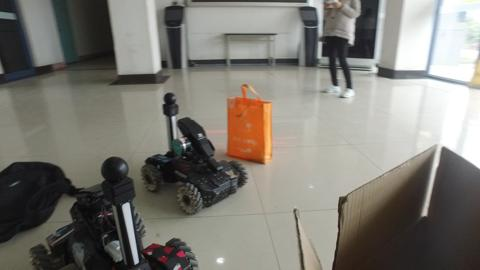bag: (224, 79, 276, 164)
chariot: (33, 159, 200, 268), (141, 90, 247, 214)
